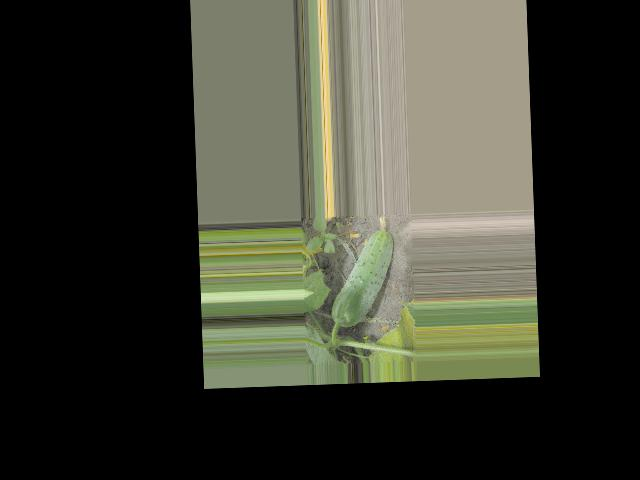cucumber: (328, 215, 396, 327)
